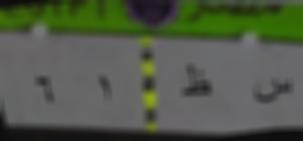1: (92, 67, 122, 107)
6: (29, 68, 70, 108)
Thaa: (177, 59, 215, 107)
seen: (248, 72, 299, 108)
